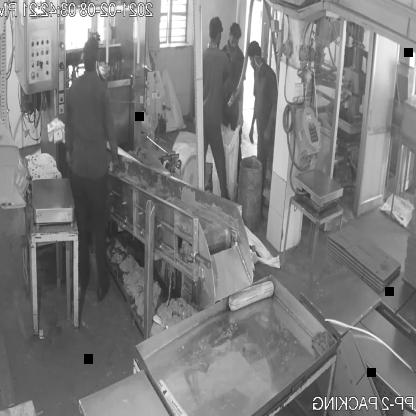no_glove: (100, 121, 122, 173)
